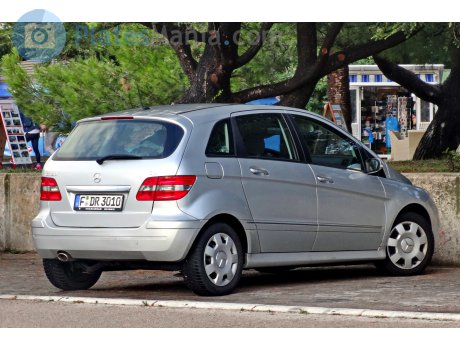License Plates: (80, 192, 125, 211)
